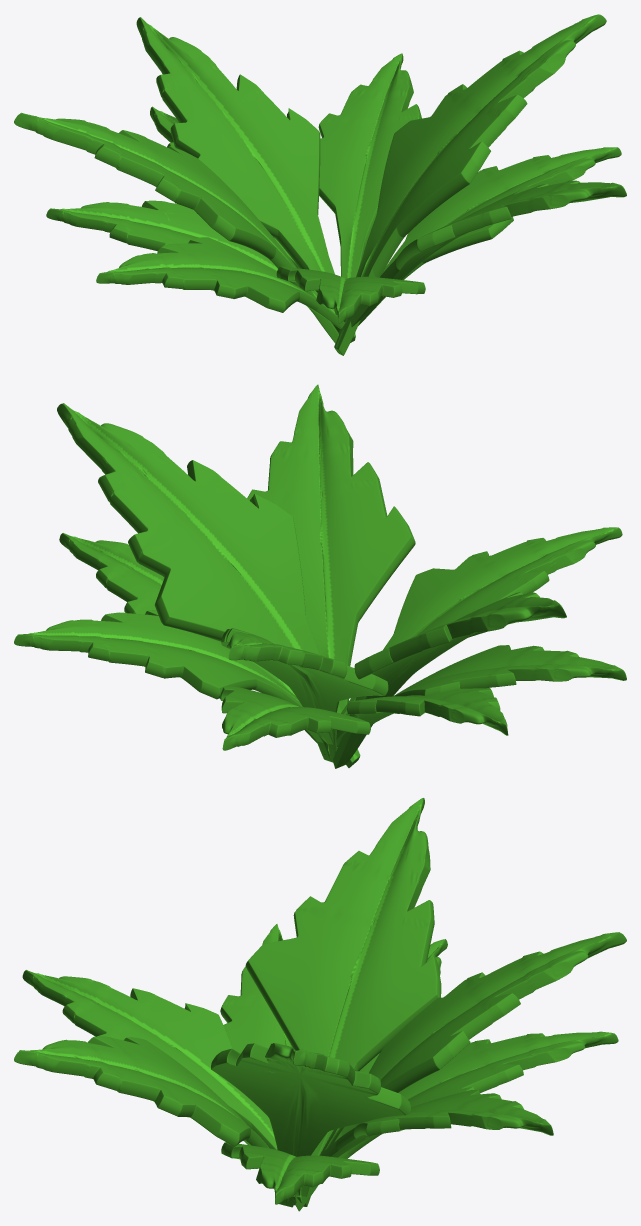
Rendered from plant1.fbx.
3 renders of one model, top to bottom at view 1: azimuth 30°, elevation 25°; view 2: azimuth 150°, elevation 25°; view 3: azimuth 270°, elevation 25°, orthographic. The views are drawn at different scales.
Visible parts, largest first — view 1: Cube.005; view 2: Cube.005; view 3: Cube.005.
Part boxes in pixels (x1,y1,x2,y2): Cube.005: (14,14,626,355); Cube.005: (14,384,626,768); Cube.005: (14,798,626,1211).
Size of the model in its own units: 2618 by 1276 by 2416.
